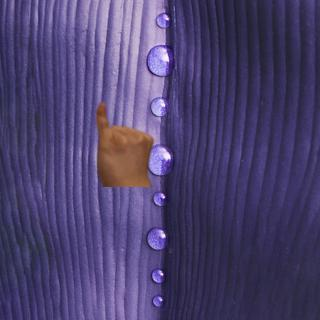FINE: (91, 99, 156, 186)
